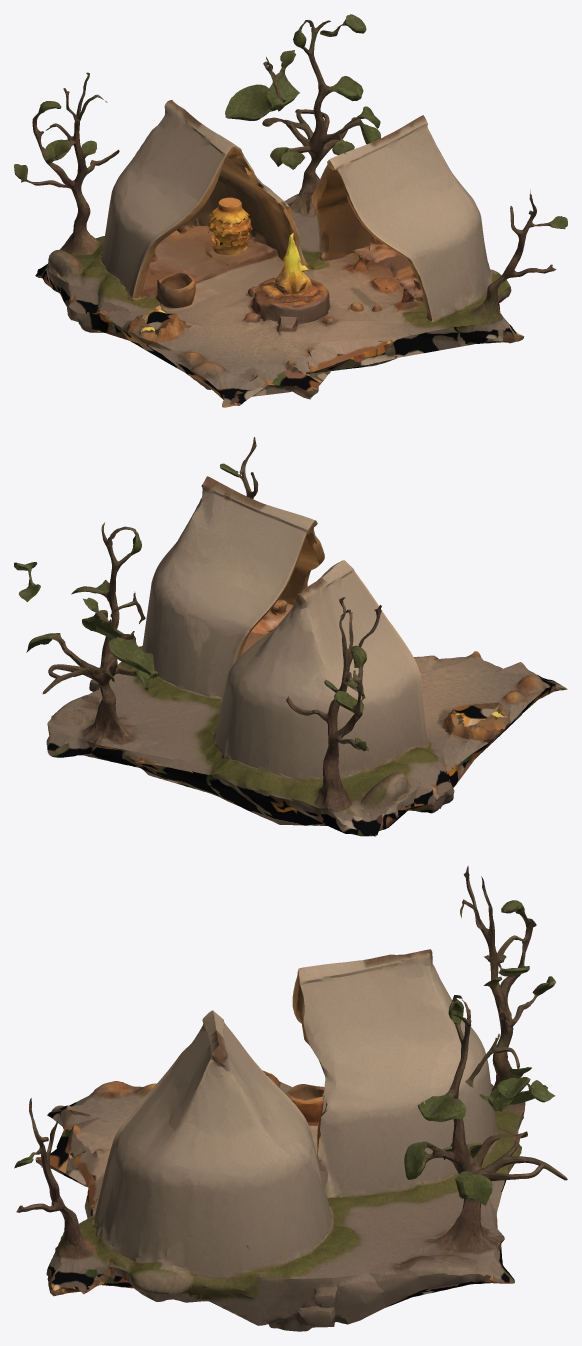
Rendered from elf_camp.glb.
3 views of the same model, one above another, from view 1: azimuth 30°, elevation 25°; view 2: azimuth 150°, elevation 25°; view 3: azimuth 270°, elevation 25° (orthographic). The views are drawn at different scales.
Parts seen in each view (by area): view 1: output_unwrapped; view 2: output_unwrapped; view 3: output_unwrapped.
Part boxes in pixels (box(x1,y1,x2,y2)): output_unwrapped: box(14, 14, 567, 407); output_unwrapped: box(14, 437, 567, 836); output_unwrapped: box(14, 865, 567, 1331).
Size of the model in its own units: 1.72 by 1.09 by 1.87.
Materials: 1 (1 with a texture image).
